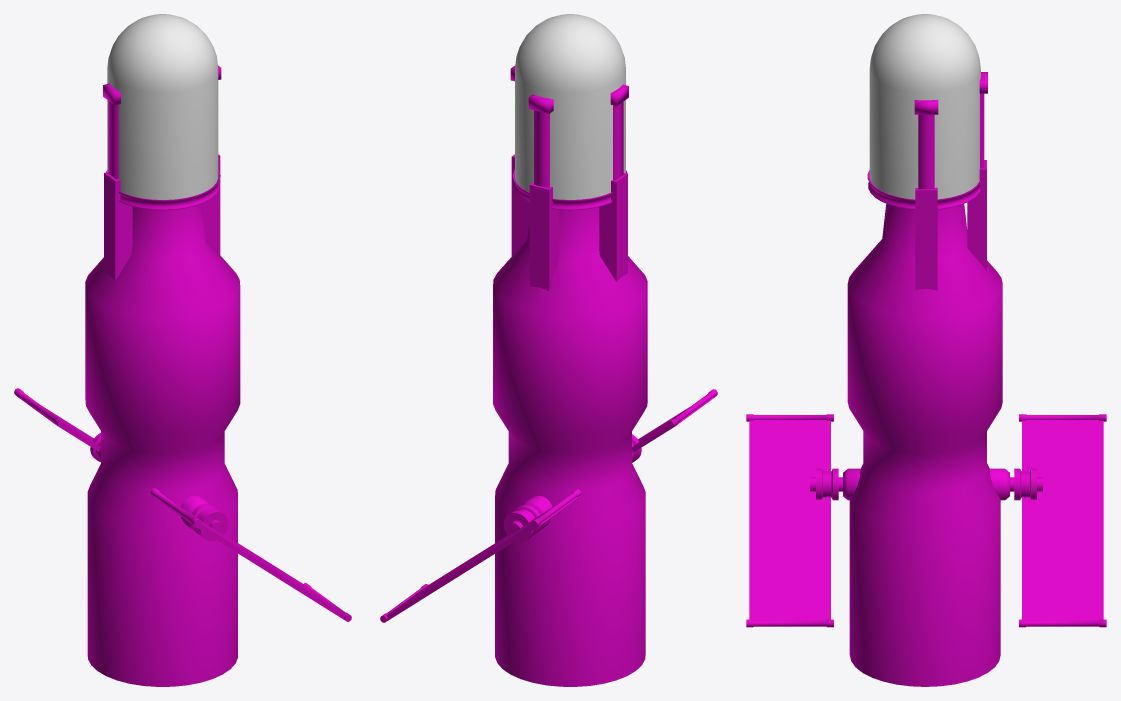
Rendered from ShipV2.fbx.
The picture shows the model from 3 angles, left to right: view 1: azimuth 30°, elevation 25°; view 2: azimuth 150°, elevation 25°; view 3: azimuth 270°, elevation 25°; orthographic projection.
Parts seen in each view (by area): view 1: Fuselage_Lo, Dome_Lo, ChargeBase1_Lo, SolarPanel_Lo, SolarPanelArms_Lo, FloorTrimEmissive_Lo, SolarSupport_Lo, ChargeBase3_Lo, ChargePillar1_Lo; view 2: Fuselage_Lo, Dome_Lo, ChargeBase2_Lo, ChargeBase1_Lo, SolarPanel_Lo, SolarPanelArms_Lo, ChargePillar2_Lo, ChargeBase3_Lo, SolarSupport_Lo, FloorTrimEmissive_Lo, ChargePillar1_Lo; view 3: Fuselage_Lo, SolarPanel_Lo, Dome_Lo, SolarPanelArms_Lo, ChargeBase3_Lo, SolarSupport_Lo, ChargeBase2_Lo, ChargePillar3_Lo, FloorTrimEmissive_Lo.
Part boxes in pixels (left/top/right/bottom): Fuselage_Lo: left=85, top=204, right=240, bottom=686; Dome_Lo: left=107, top=14, right=218, bottom=199; ChargeBase1_Lo: left=104, top=172, right=132, bottom=280; SolarPanel_Lo: left=15, top=395, right=345, bottom=619; SolarPanelArms_Lo: left=90, top=433, right=228, bottom=541; FloorTrimEmissive_Lo: left=106, top=170, right=220, bottom=210; SolarSupport_Lo: left=14, top=388, right=351, bottom=621; ChargeBase3_Lo: left=202, top=154, right=220, bottom=254; ChargePillar1_Lo: left=108, top=101, right=118, bottom=179; Fuselage_Lo: left=493, top=207, right=647, bottom=686; Dome_Lo: left=515, top=14, right=625, bottom=199; ChargeBase2_Lo: left=529, top=182, right=559, bottom=290; ChargeBase1_Lo: left=599, top=173, right=627, bottom=281; SolarPanel_Lo: left=386, top=396, right=716, bottom=620; SolarPanelArms_Lo: left=503, top=434, right=641, bottom=542; ChargePillar2_Lo: left=534, top=110, right=549, bottom=187; ChargeBase3_Lo: left=511, top=154, right=529, bottom=256; SolarSupport_Lo: left=380, top=389, right=717, bottom=622; FloorTrimEmissive_Lo: left=512, top=170, right=627, bottom=210; ChargePillar1_Lo: left=613, top=102, right=623, bottom=180; Fuselage_Lo: left=847, top=204, right=1002, bottom=686; SolarPanel_Lo: left=749, top=420, right=1103, bottom=620; Dome_Lo: left=869, top=14, right=980, bottom=199; SolarPanelArms_Lo: left=810, top=468, right=1042, bottom=500; ChargeBase3_Lo: left=915, top=187, right=937, bottom=290; SolarSupport_Lo: left=746, top=414, right=1106, bottom=627; ChargeBase2_Lo: left=967, top=160, right=986, bottom=270; ChargePillar3_Lo: left=918, top=114, right=934, bottom=189; FloorTrimEmissive_Lo: left=867, top=170, right=981, bottom=209.
Size of the model in its own units: 1524 by 5553 by 2849.
